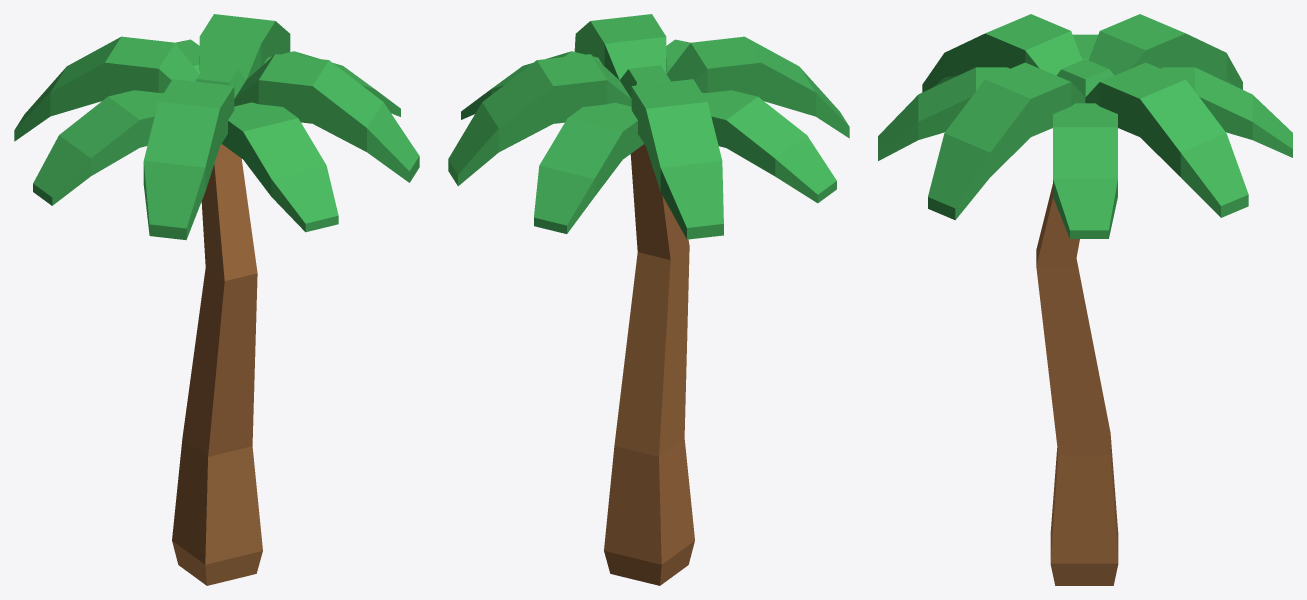
File: palm-bushy.glb
The picture shows the model from 3 angles, left to right: view 1: azimuth 30°, elevation 25°; view 2: azimuth 150°, elevation 25°; view 3: azimuth 270°, elevation 25°; orthographic projection.
Visible parts, largest first — view 1: leafs (×2), tree_palmDetailedTall; view 2: leafs (×2), tree_palmDetailedTall; view 3: leafs (×2), tree_palmDetailedTall.
Part boxes in pixels (box(x1,y1,x2,y2)): leafs (×2): box(14, 14, 419, 240); tree_palmDetailedTall: box(172, 144, 262, 585); leafs (×2): box(448, 14, 849, 239); tree_palmDetailedTall: box(604, 144, 694, 585); leafs (×2): box(878, 14, 1292, 238); tree_palmDetailedTall: box(1036, 184, 1118, 585).
Bounding box in the file's own units: 4.14 × 5.69 × 4.14.
